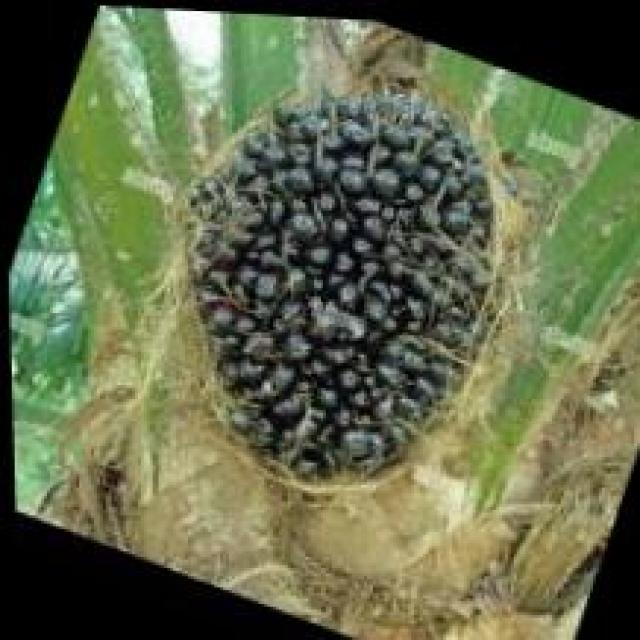Unripe: (98, 10, 571, 528)
